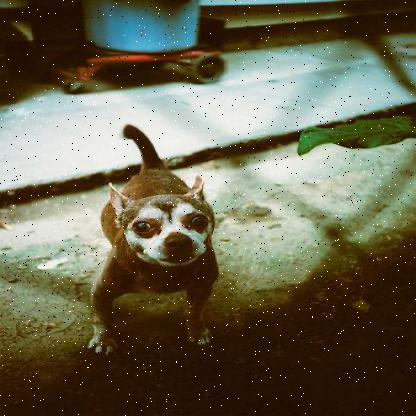dog: (85, 121, 230, 353)
